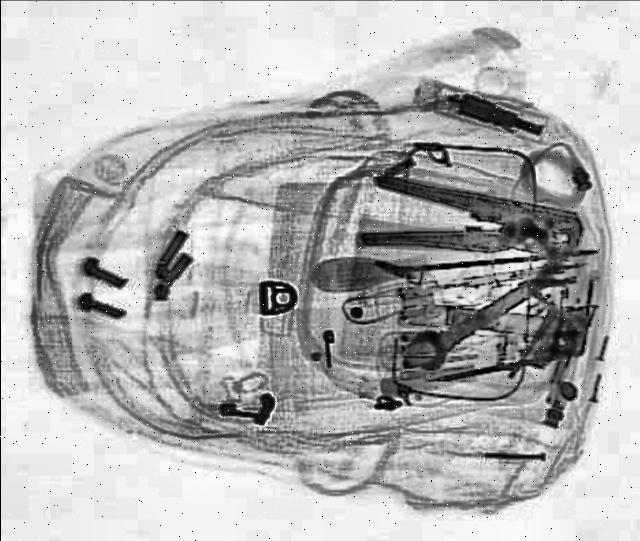Pliers: (361, 176, 591, 274)
Wrench: (397, 252, 588, 378)
